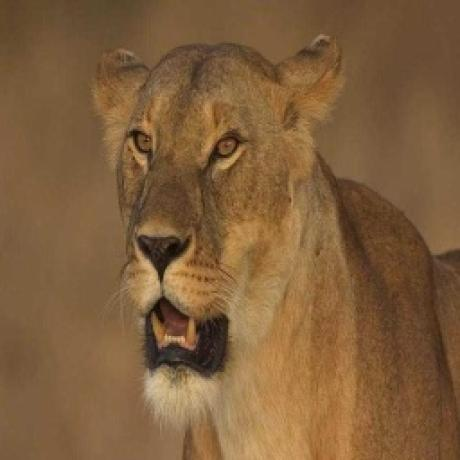Lion: (80, 28, 459, 460)
